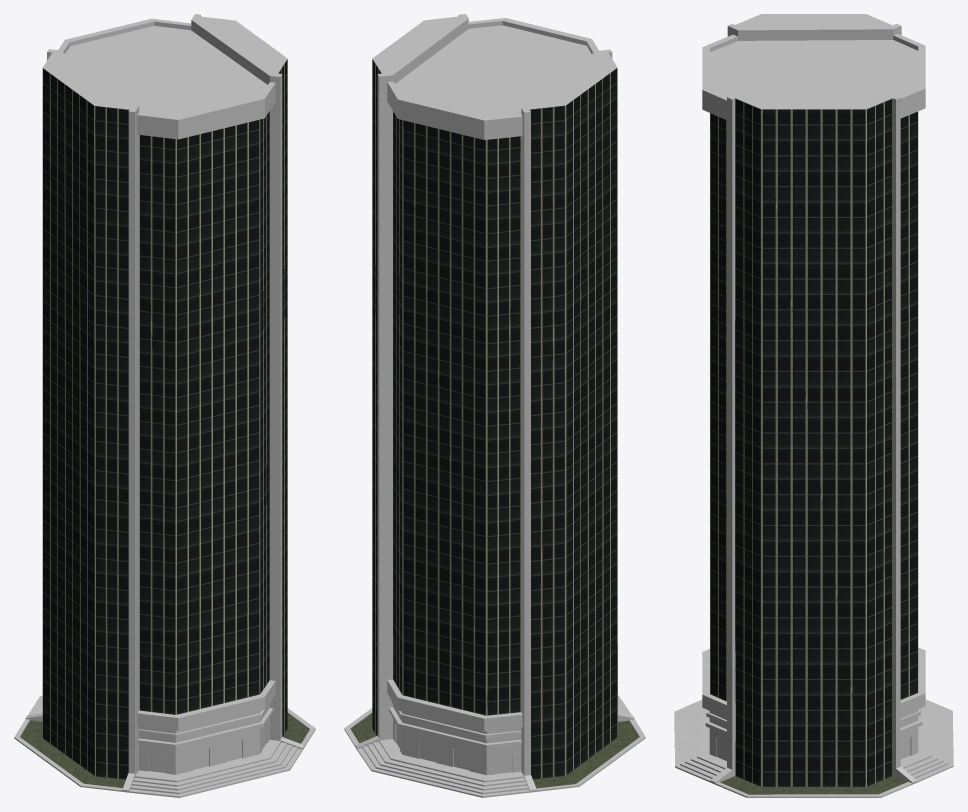
3 renders of one model, left to right at view 1: azimuth 30°, elevation 25°; view 2: azimuth 150°, elevation 25°; view 3: azimuth 270°, elevation 25°, orthographic.
Parts seen in each view (by area): view 1: BC-080; view 2: BC-080; view 3: BC-080.
Part boxes in pixels (bbox=[...]): BC-080: bbox=[14, 14, 315, 797]; BC-080: bbox=[344, 14, 645, 797]; BC-080: bbox=[674, 14, 953, 797].
Size of what is drawn, in the model's own units: 34.59 by 94.34 by 35.24.
